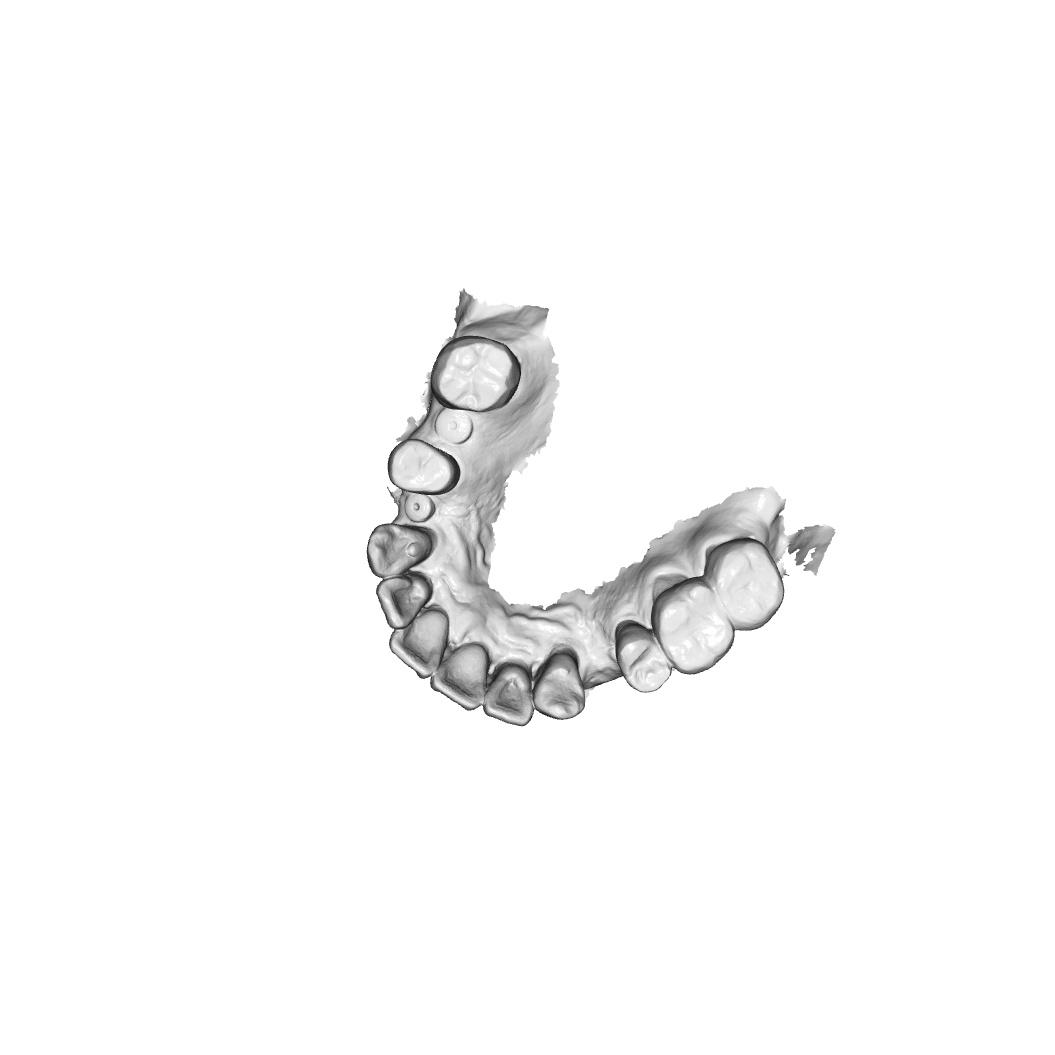canine: (365, 522, 434, 579), (532, 651, 587, 721)
implant: (433, 406, 475, 445), (403, 494, 437, 524)
incisor: (388, 608, 450, 680), (429, 642, 490, 712), (483, 662, 535, 728), (374, 574, 433, 629)
molar: (650, 576, 736, 676), (704, 537, 786, 632), (430, 334, 522, 413)
premolar: (386, 437, 462, 496), (614, 619, 672, 694)
